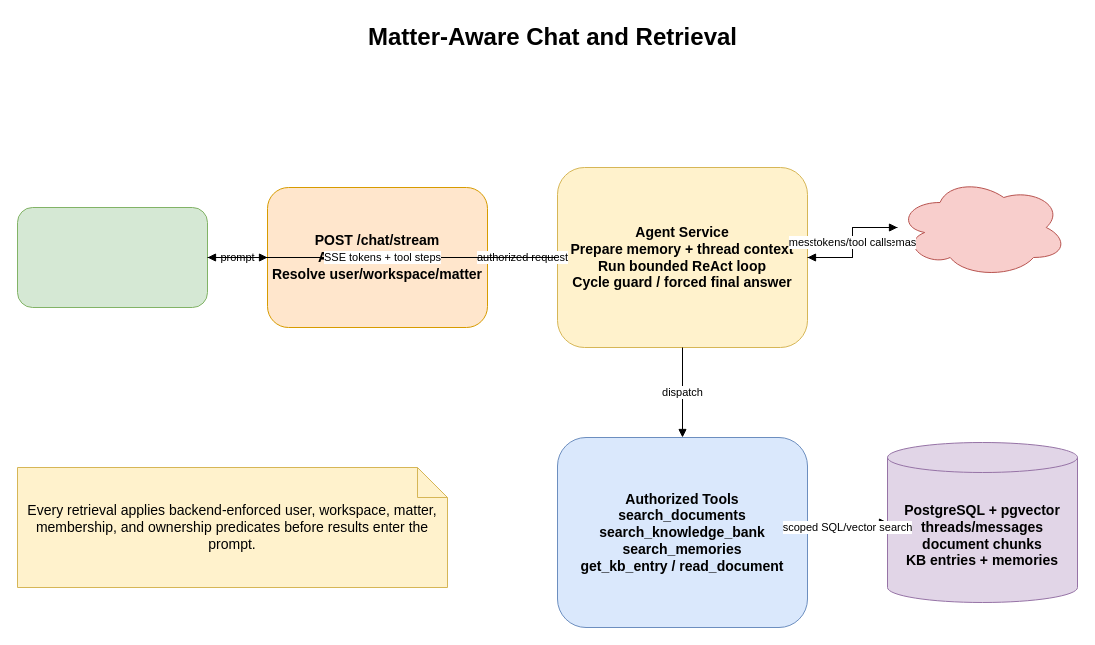
Image size: 1095x645. Some labels were removed from this diagram. Here are the shapes that lost their labels. From the top down, the box of each, then its label:
(896, 176, 1068, 278): DeepSeek V4 Flash or Pro
(16, 206, 208, 308): ChatPanel selected matter + model
